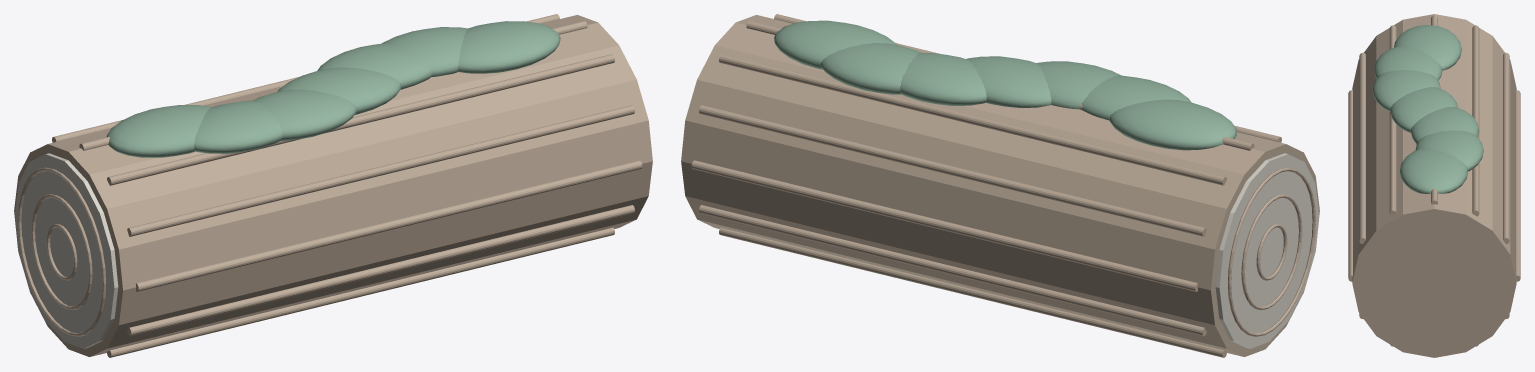
File: library_fallen_log.glb
The picture shows the model from 3 angles, left to right: view 1: azimuth 30°, elevation 25°; view 2: azimuth 150°, elevation 25°; view 3: azimuth 270°, elevation 25°; orthographic projection. The views are drawn at different scales.
Parts seen in each view (by area): view 1: decor_806751_matte, decor_466d54_matte, decor_aaa493_matte; view 2: decor_806751_matte, decor_466d54_matte, decor_aaa493_matte; view 3: decor_806751_matte, decor_466d54_matte.
Part boxes in pixels (x1,y1,x2,y2): decor_806751_matte: [14, 14, 652, 357]; decor_466d54_matte: [106, 21, 560, 157]; decor_aaa493_matte: [15, 153, 118, 348]; decor_806751_matte: [681, 14, 1319, 357]; decor_466d54_matte: [774, 20, 1236, 150]; decor_aaa493_matte: [1215, 153, 1318, 348]; decor_806751_matte: [1348, 14, 1520, 357]; decor_466d54_matte: [1372, 25, 1483, 193].
Size of the model in its own units: 2.05 by 0.792 by 0.754.
